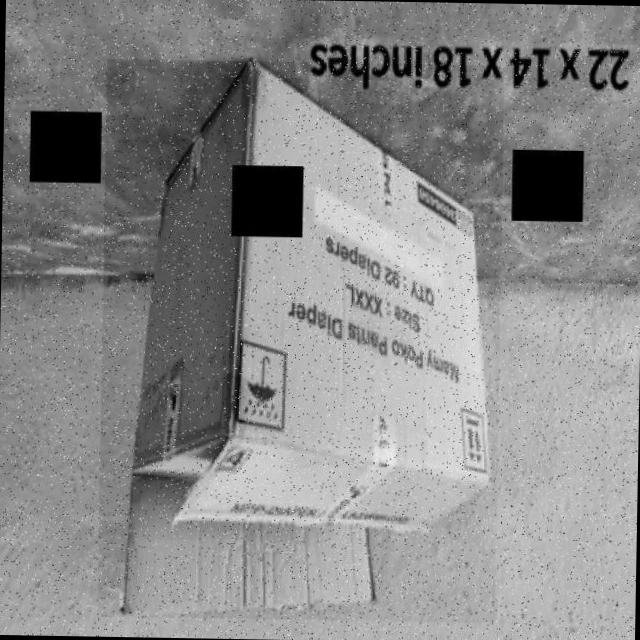box: (97, 58, 504, 623)
